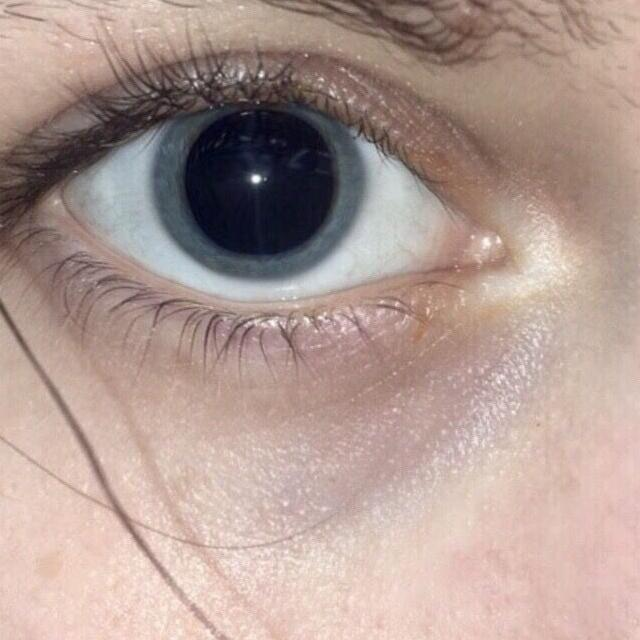eye: (66, 99, 451, 309)
iris: (156, 107, 366, 281)
